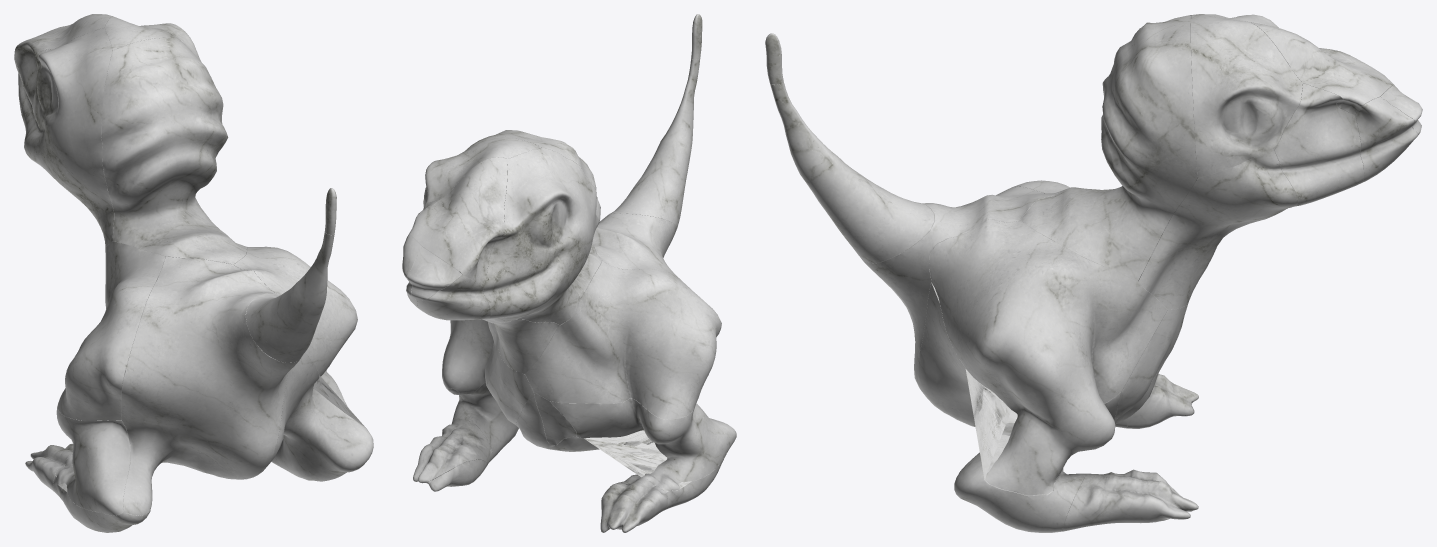
The model's file is fractureddino.fbx.
The picture shows the model from 3 angles, left to right: view 1: azimuth 30°, elevation 25°; view 2: azimuth 150°, elevation 25°; view 3: azimuth 270°, elevation 25°; orthographic projection. The views are drawn at different scales.
Visible parts, largest first — view 1: fracture_cell.014, fracture_cell.017, fracture_cell.012, fracture_cell.002, fracture_cell.009, fracture_cell.003, fracture_cell, fracture_cell.011, fracture_cell.013, fracture_cell.007, fracture_cell.008, fracture_cell.020 (+1 smaller); view 2: fracture_cell.002, fracture_cell.012, fracture_cell.003, fracture_cell.013, fracture_cell, fracture_cell.014, fracture_cell.011, fracture_cell.021, fracture_cell.007, fracture_cell.008, fracture_cell.020, fracture_cell.005 (+10 smaller); view 3: fracture_cell.011, fracture_cell.017, fracture_cell.007, fracture_cell.009, fracture_cell.005, fracture_cell, fracture_cell.006, fracture_cell.014, fracture_cell.021, fracture_cell.013, fracture_cell.016, fracture_cell.010 (+3 smaller).
Boxes of the visible parts, x1,y1,x2,y2 form: fracture_cell.014: [121, 256, 299, 515]; fracture_cell.017: [101, 38, 247, 264]; fracture_cell.012: [21, 28, 114, 247]; fracture_cell.002: [57, 241, 165, 420]; fracture_cell.009: [231, 353, 373, 481]; fracture_cell.003: [55, 406, 130, 515]; fracture_cell: [245, 231, 334, 362]; fracture_cell.011: [233, 246, 357, 406]; fracture_cell.013: [14, 14, 112, 86]; fracture_cell.007: [104, 16, 201, 61]; fracture_cell.008: [53, 461, 190, 532]; fracture_cell.020: [25, 443, 73, 492]; fracture_cell.002: [525, 261, 721, 419]; fracture_cell.012: [483, 148, 597, 325]; fracture_cell.003: [549, 398, 736, 492]; fracture_cell.013: [409, 157, 507, 286]; fracture_cell: [608, 58, 700, 227]; fracture_cell.014: [592, 213, 690, 288]; fracture_cell.011: [442, 319, 498, 403]; fracture_cell.021: [413, 419, 492, 483]; fracture_cell.007: [423, 136, 542, 206]; fracture_cell.008: [548, 436, 726, 510]; fracture_cell.020: [600, 477, 668, 532]; fracture_cell.005: [482, 319, 559, 373]; fracture_cell.011: [929, 219, 1167, 495]; fracture_cell.017: [1021, 16, 1197, 281]; fracture_cell.007: [1191, 15, 1302, 177]; fracture_cell.009: [917, 282, 1121, 532]; fracture_cell.005: [1138, 150, 1297, 309]; fracture_cell: [770, 82, 934, 263]; fracture_cell.006: [1274, 83, 1363, 210]; fracture_cell.014: [863, 186, 1060, 389]; fracture_cell.021: [1062, 469, 1198, 531]; fracture_cell.013: [1247, 21, 1393, 114]; fracture_cell.016: [1355, 97, 1418, 182]; fracture_cell.010: [1115, 303, 1188, 419].
Size of the model in its own units: 326 by 463 by 611.
